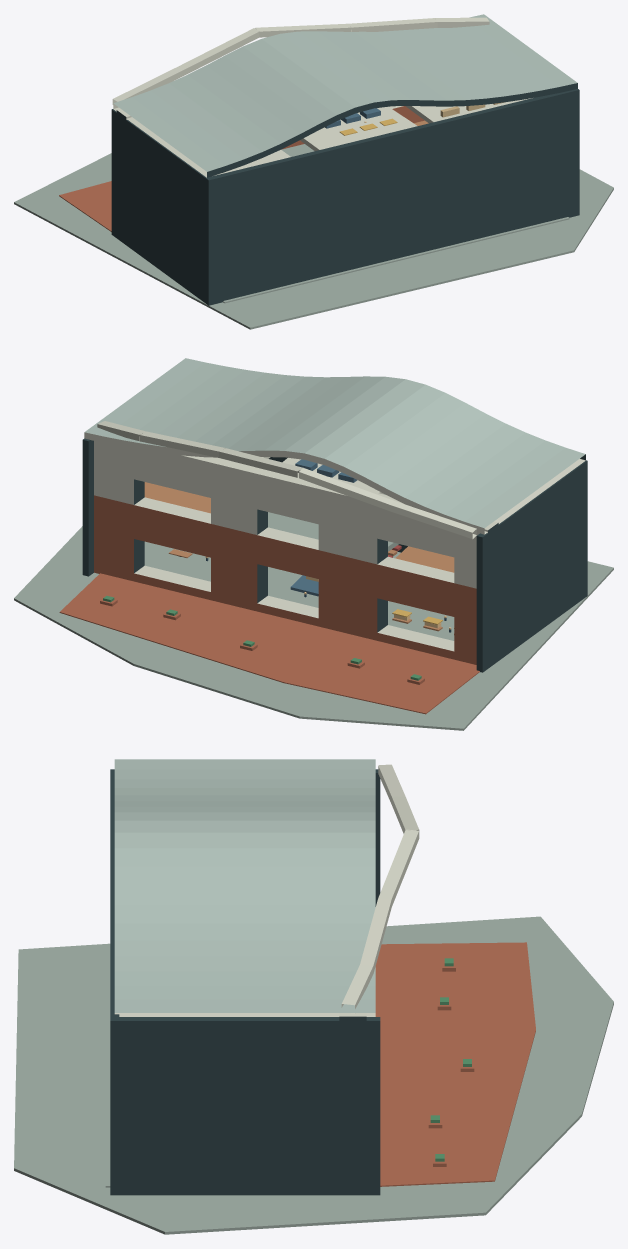
File: a46_open_frontage.obj
The picture shows the model from 3 angles, top to bottom: view 1: azimuth 30°, elevation 25°; view 2: azimuth 150°, elevation 25°; view 3: azimuth 270°, elevation 25°; orthographic projection. The views are drawn at different scales.
Bounding box in the file's own units: 163 × 54.69 × 131.
